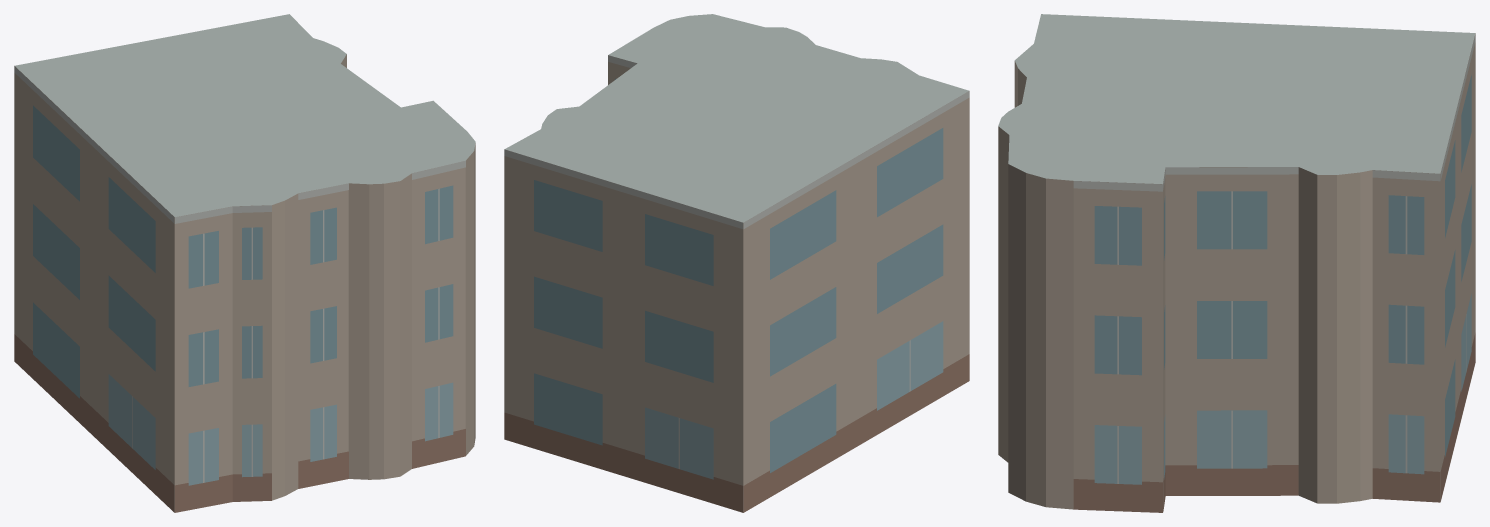
Rendered from survey-upis-32565956.glb.
3 views of the same model, side by side, from view 1: azimuth 30°, elevation 25°; view 2: azimuth 150°, elevation 25°; view 3: azimuth 270°, elevation 25° (orthographic). The views are drawn at different scales.
Parts seen in each view (by area): view 1: survey-upis-32565956.tmp; view 2: survey-upis-32565956.tmp; view 3: survey-upis-32565956.tmp.
Part boxes in pixels (x1,y1,x2,y2): survey-upis-32565956.tmp: (14, 14, 475, 512); survey-upis-32565956.tmp: (504, 14, 969, 512); survey-upis-32565956.tmp: (998, 14, 1475, 512).
Size of the model in its own units: 11.83 by 10.65 by 14.02.
